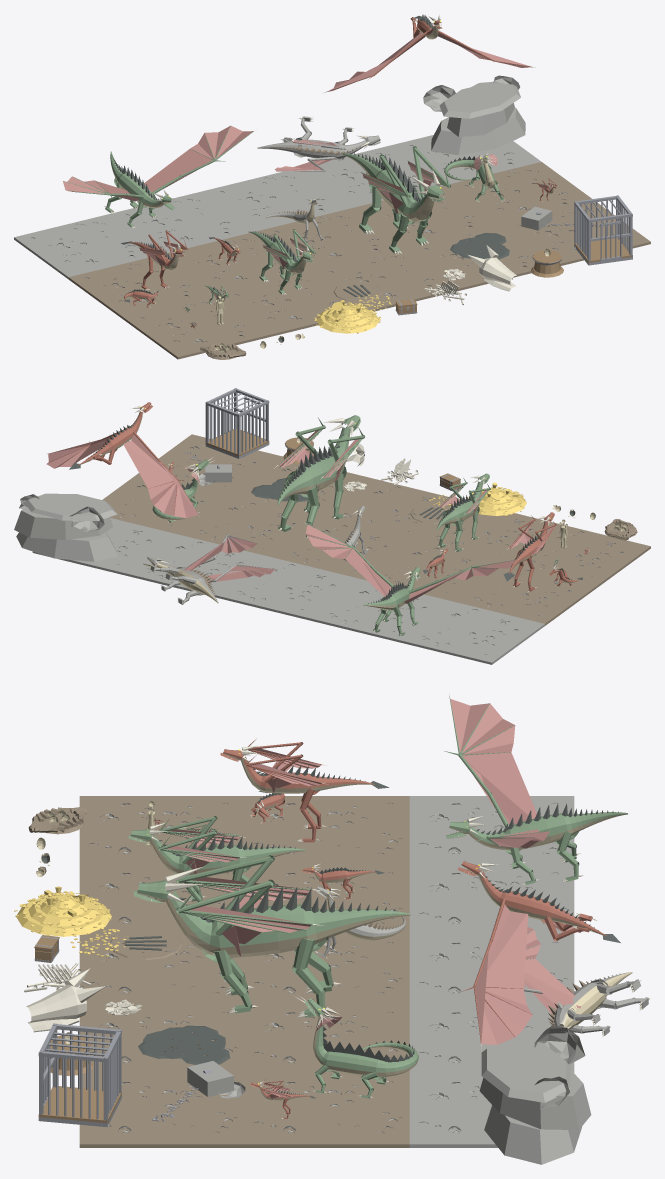
The model's file is dragons-and-wyverns-scale-line-up-5bcbd6ba__36756.glb.
3 views of the same model, one above another, from view 1: azimuth 30°, elevation 25°; view 2: azimuth 150°, elevation 25°; view 3: azimuth 270°, elevation 25° (orthographic). The views are drawn at different scales.
Visible parts, largest first — view 1: 030-cliff-ledge/0, 002-lair-ground-tile/0, 000-lair-ground-tile/0, 006-lair-ground-tile/0, 003-lair-ground-tile/0, 001-lair-ground-tile/0, 013-lair-ground-tile/0, 005-lair-ground-tile/0, 008-lair-ground-tile/0, 007-lair-ground-tile/0, 004-lair-ground-tile/0, 010-lair-ground-tile/0 (+24 smaller); view 2: 030-cliff-ledge/0, 000-lair-ground-tile/0, 006-lair-ground-tile/0, 001-lair-ground-tile/0, 010-lair-ground-tile/0, 002-lair-ground-tile/0, 003-lair-ground-tile/0, 008-lair-ground-tile/0, 004-lair-ground-tile/0, 018-elder-dragon-standing/0, 007-lair-ground-tile/0, 005-lair-ground-tile/0 (+25 smaller); view 3: 030-cliff-ledge/0, 013-lair-ground-tile/0, 018-elder-dragon-standing/0, 001-lair-ground-tile/0, 014-lair-ground-tile/0, 007-lair-ground-tile/0, 003-lair-ground-tile/0, 010-lair-ground-tile/0, 002-lair-ground-tile/0, 008-lair-ground-tile/0, 000-lair-ground-tile/0, 006-lair-ground-tile/0 (+34 smaller).
Part boxes in pixels (x1=…): 030-cliff-ledge/0: x1=423, y1=75, x2=525, y2=155; 002-lair-ground-tile/0: x1=123, y1=295, x2=272, y2=359; 000-lair-ground-tile/0: x1=14, y1=214, x2=151, y2=279; 006-lair-ground-tile/0: x1=203, y1=171, x2=351, y2=230; 003-lair-ground-tile/0: x1=109, y1=191, x2=257, y2=252; 001-lair-ground-tile/0: x1=68, y1=258, x2=211, y2=319; 013-lair-ground-tile/0: x1=450, y1=162, x2=591, y2=224; 005-lair-ground-tile/0: x1=221, y1=271, x2=357, y2=336; 008-lair-ground-tile/0: x1=313, y1=248, x2=461, y2=311; 007-lair-ground-tile/0: x1=258, y1=208, x2=406, y2=270; 004-lair-ground-tile/0: x1=167, y1=231, x2=311, y2=293; 010-lair-ground-tile/0: x1=353, y1=185, x2=501, y2=247; 030-cliff-ledge/0: x1=14, y1=493, x2=118, y2=561; 000-lair-ground-tile/0: x1=400, y1=601, x2=544, y2=664; 006-lair-ground-tile/0: x1=216, y1=556, x2=360, y2=619; 001-lair-ground-tile/0: x1=453, y1=565, x2=597, y2=625; 010-lair-ground-tile/0: x1=178, y1=495, x2=321, y2=556; 002-lair-ground-tile/0: x1=509, y1=524, x2=650, y2=586; 003-lair-ground-tile/0: x1=308, y1=579, x2=452, y2=642; 008-lair-ground-tile/0: x1=323, y1=479, x2=451, y2=540; 004-lair-ground-tile/0: x1=361, y1=540, x2=502, y2=601; 018-elder-dragon-standing/0: x1=277, y1=415, x2=364, y2=537; 007-lair-ground-tile/0: x1=270, y1=518, x2=413, y2=578; 005-lair-ground-tile/0: x1=415, y1=513, x2=558, y2=561; 030-cliff-ledge/0: x1=479, y1=1025, x2=591, y2=1164; 013-lair-ground-tile/0: x1=244, y1=1074, x2=409, y2=1147; 018-elder-dragon-standing/0: x1=133, y1=855, x2=410, y2=1017; 001-lair-ground-tile/0: x1=244, y1=796, x2=409, y2=865; 014-lair-ground-tile/0: x1=79, y1=1074, x2=244, y2=1147; 007-lair-ground-tile/0: x1=244, y1=935, x2=409, y2=1004; 003-lair-ground-tile/0: x1=409, y1=865, x2=574, y2=935; 010-lair-ground-tile/0: x1=244, y1=1005, x2=409, y2=1074; 002-lair-ground-tile/0: x1=79, y1=796, x2=244, y2=865; 008-lair-ground-tile/0: x1=79, y1=935, x2=244, y2=1004; 000-lair-ground-tile/0: x1=409, y1=796, x2=574, y2=865; 006-lair-ground-tile/0: x1=409, y1=935, x2=574, y2=1004.
Bounding box in the file's own units: 31.77 × 9.02 × 23.18.
